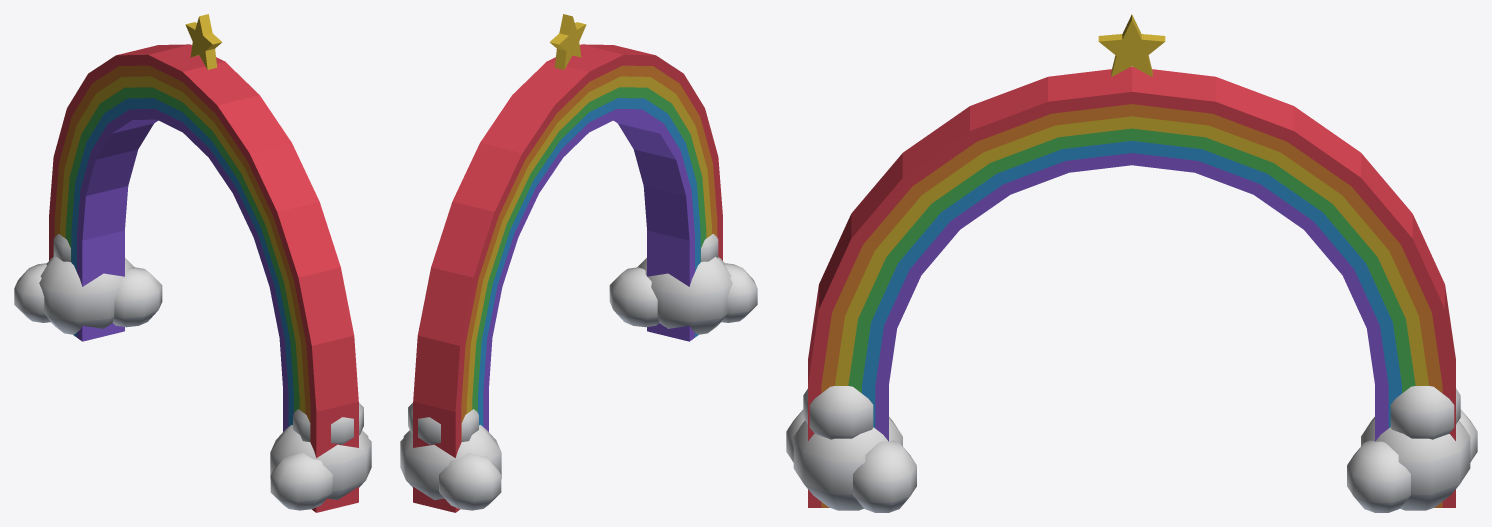
The model's file is carnival-exit.glb.
3 views of the same model, side by side, from view 1: azimuth 30°, elevation 25°; view 2: azimuth 150°, elevation 25°; view 3: azimuth 270°, elevation 25° (orthographic). The views are drawn at different scales.
Parts seen in each view (by area): view 1: carnival-exit; view 2: carnival-exit; view 3: carnival-exit.
Boxes of the visible parts, bbox=[...] form: carnival-exit: bbox=[14, 14, 371, 512]; carnival-exit: bbox=[400, 14, 757, 512]; carnival-exit: bbox=[786, 14, 1477, 512].
Bounding box in the file's own units: 1.18 × 3.99 × 5.12.
